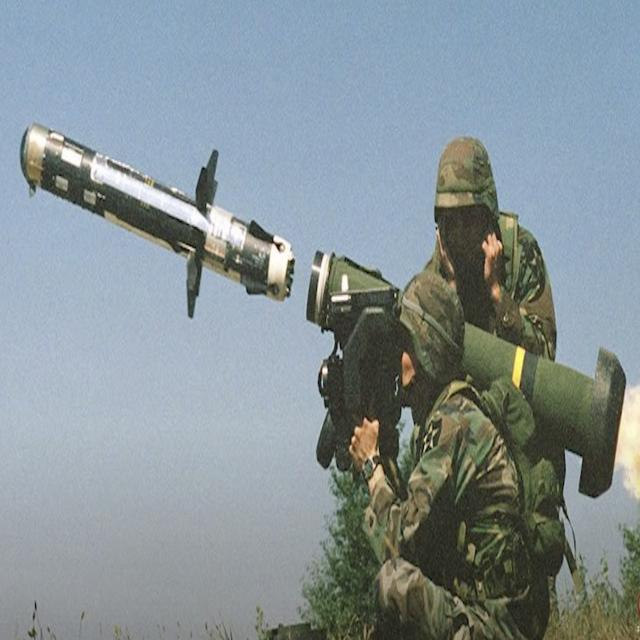bazooka: (283, 177, 640, 546)
